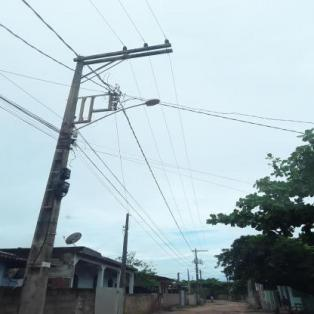Poste: (8, 50, 94, 314), (194, 248, 200, 306)
